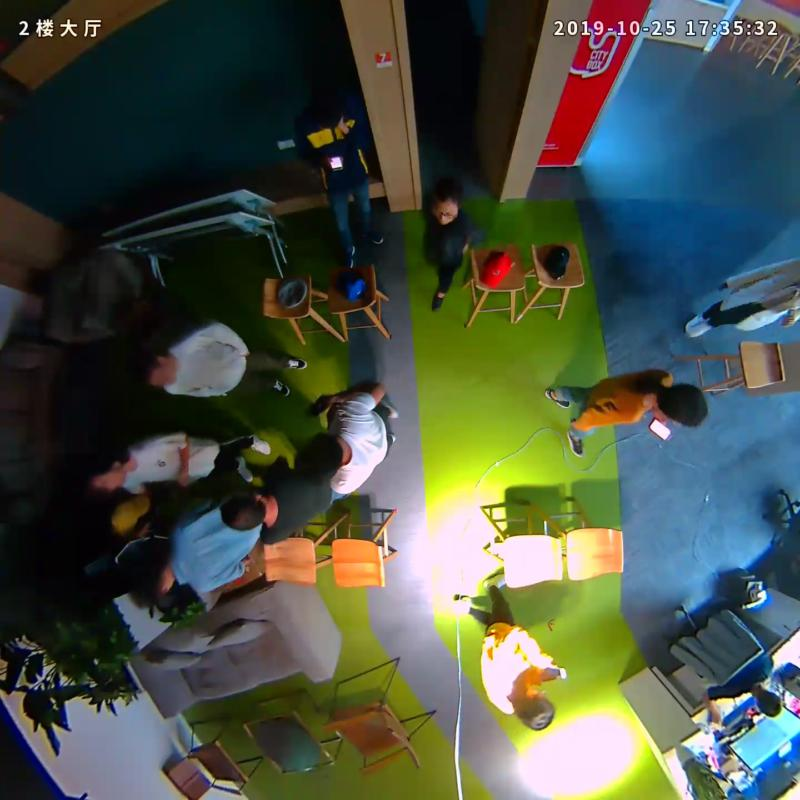head: (124, 553, 177, 606), (76, 444, 134, 492), (295, 431, 345, 481), (514, 683, 556, 732), (220, 491, 270, 531), (129, 349, 176, 389)
